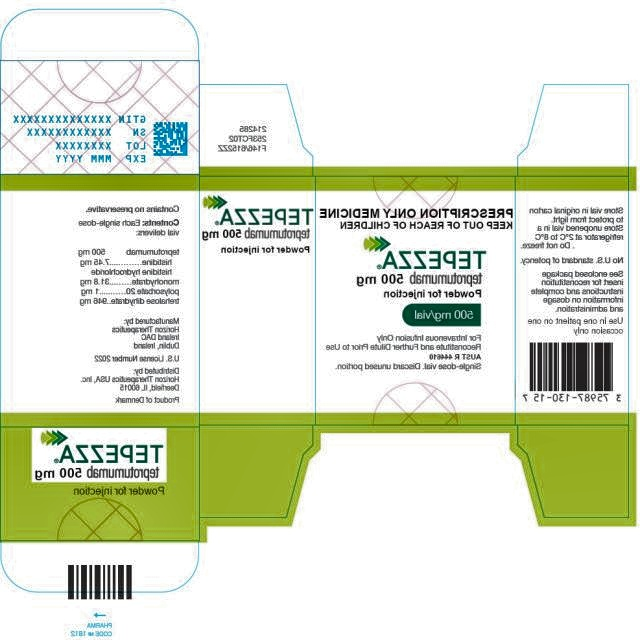Artwork: (0, 0, 640, 640)
Back_Panel: (1, 174, 200, 427)
Bottom_Part: (0, 61, 200, 175)
Extra_Areas: (199, 426, 316, 531), (516, 425, 630, 527), (516, 82, 630, 176), (200, 83, 314, 176), (0, 7, 199, 60), (0, 541, 199, 593), (317, 425, 515, 442), (315, 166, 517, 176), (630, 411, 638, 527), (630, 163, 639, 194)
Front_Panel: (316, 176, 515, 425)
Side_Panel: (200, 176, 315, 425), (515, 176, 629, 425)
Top_Panel: (2, 426, 199, 542)
